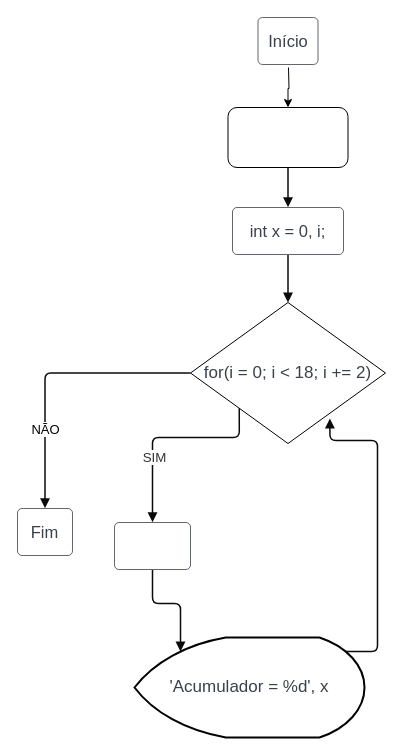
Some shapes in this 404 by 756 pixel diagram are drawn without their labels. Here are the shapes that lost their labels. From the top down, the centre of each, then its label:
point 287,137: x, i
point 152,545: x += i;
